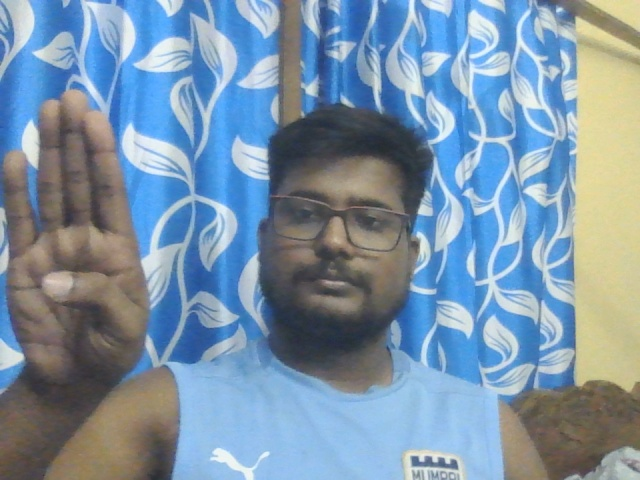B: (1, 89, 149, 384)
